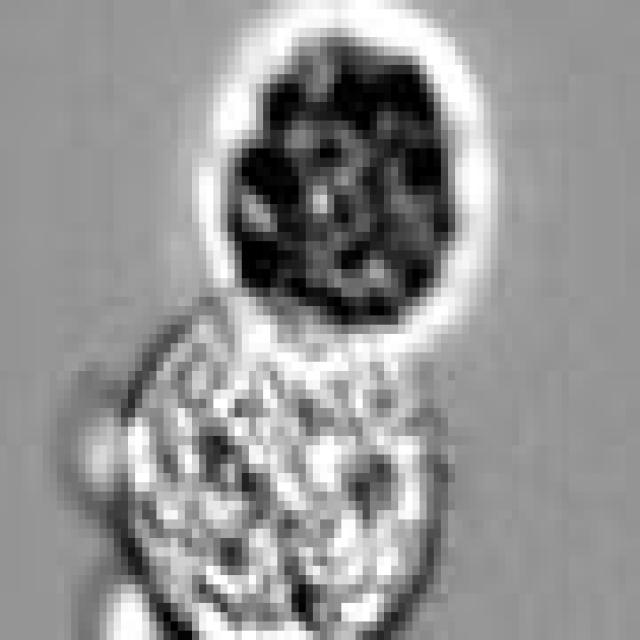Cancer Cell: (121, 278, 455, 640)
WBC: (213, 9, 470, 334)
